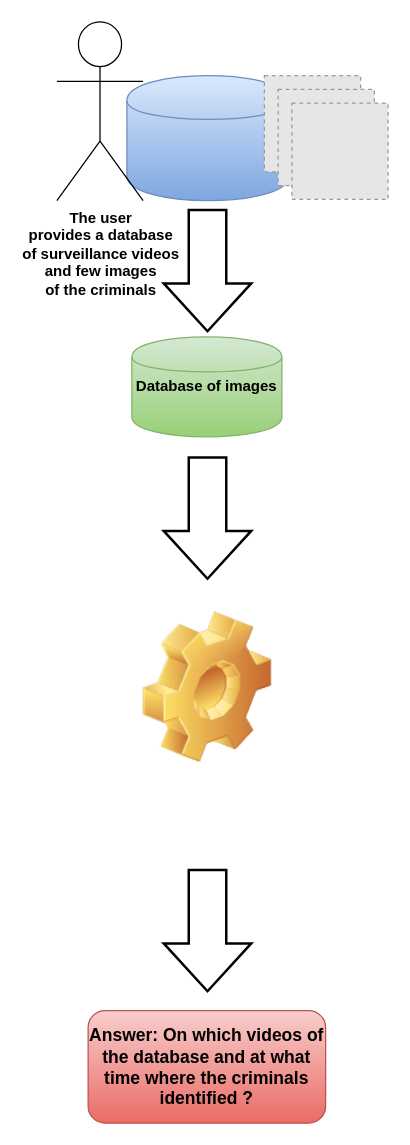
Some shapes in this 410 by 1145 pixel diagram are drawn without their labels. Grey dashed boxes stand in for pictures. The centre of each missing label's shape, as x and y in pixels:
"Database of Videos" belongs at [207,137].
"DEEP NEURAL NETWORK MODEL" belongs at [206,686].
